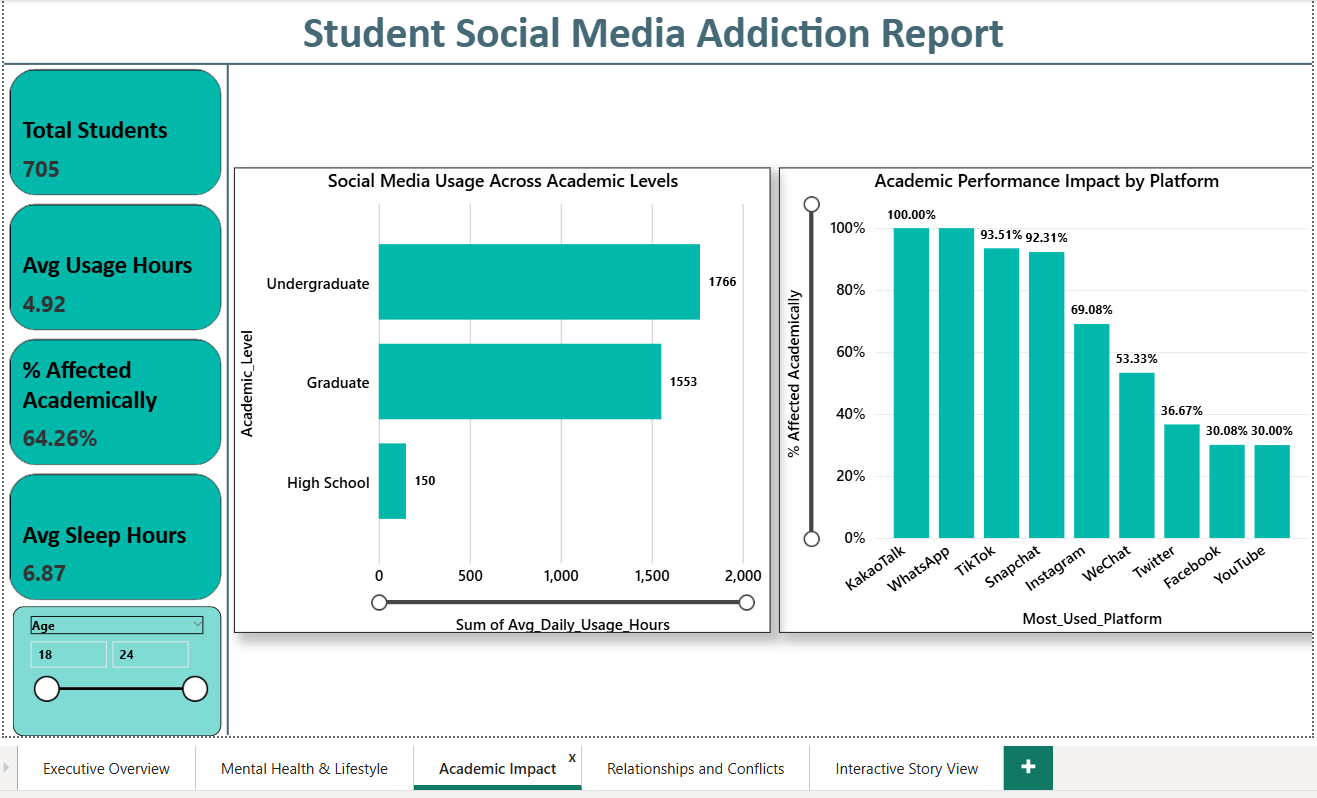

The dashboard page shown, as its layout file describes it:
{"tool":"powerbi","page":{"name":"Academic Impact","canvas":[1280,720],"ordinal":2},"visuals":[{"type":"textbox","box":[0,0,1280.3,63.6],"z":0},{"type":"shape","box":[0,56.2,1280,12.5],"z":1000},{"type":"shape","box":[212.8,62.4,12.2,656.7],"z":2000},{"type":"cardVisual","fields":{"Data":["CountNonNull(Student_details.Student_ID)","Platform_Details.Avg Usage Hours","Platform_Details.% Affected Academically","Student_details.Avg Sleep Hours"]},"box":[0,62.4,218.9,530.7],"z":3000},{"type":"columnChart","title":"Academic Performance Impact by Platform","fields":{"Y":["Platform_Details.% Affected Academically"],"Category":["Platform_Details.Most_Used_Platform"]},"box":[758.2,163.9,522.1,454.9],"z":4000},{"type":"clusteredBarChart","title":"Social Media Usage Across Academic Levels","fields":{"Category":["Student_details.Academic_Level"],"Y":["Sum(Platform_Details.Avg_Daily_Usage_Hours)"]},"box":[225,163.9,524.6,454.9],"z":5000},{"type":"slicer","fields":{"Values":["Student_details.Age"]},"box":[8.6,593.1,204.2,127.2],"z":6000}]}

Visuals, with their boxes on the page's 1280x720 design canvas (x1, y1, x2, y2). These are canvas units, not pixel positions in the 1317x798 screenshot, which may show the page scaled, cropped or inside an application window:
textbox: [0, 0, 1280, 64]
shape: [0, 56, 1280, 69]
shape: [213, 62, 225, 719]
cardVisual - CountNonNull(Student_details.Student_ID) x Platform_Details.Avg Usage Hours: [0, 62, 219, 593]
"Academic Performance Impact by Platform" columnChart: [758, 164, 1280, 619]
"Social Media Usage Across Academic Levels" clusteredBarChart: [225, 164, 750, 619]
slicer - Student_details.Age: [9, 593, 213, 720]
